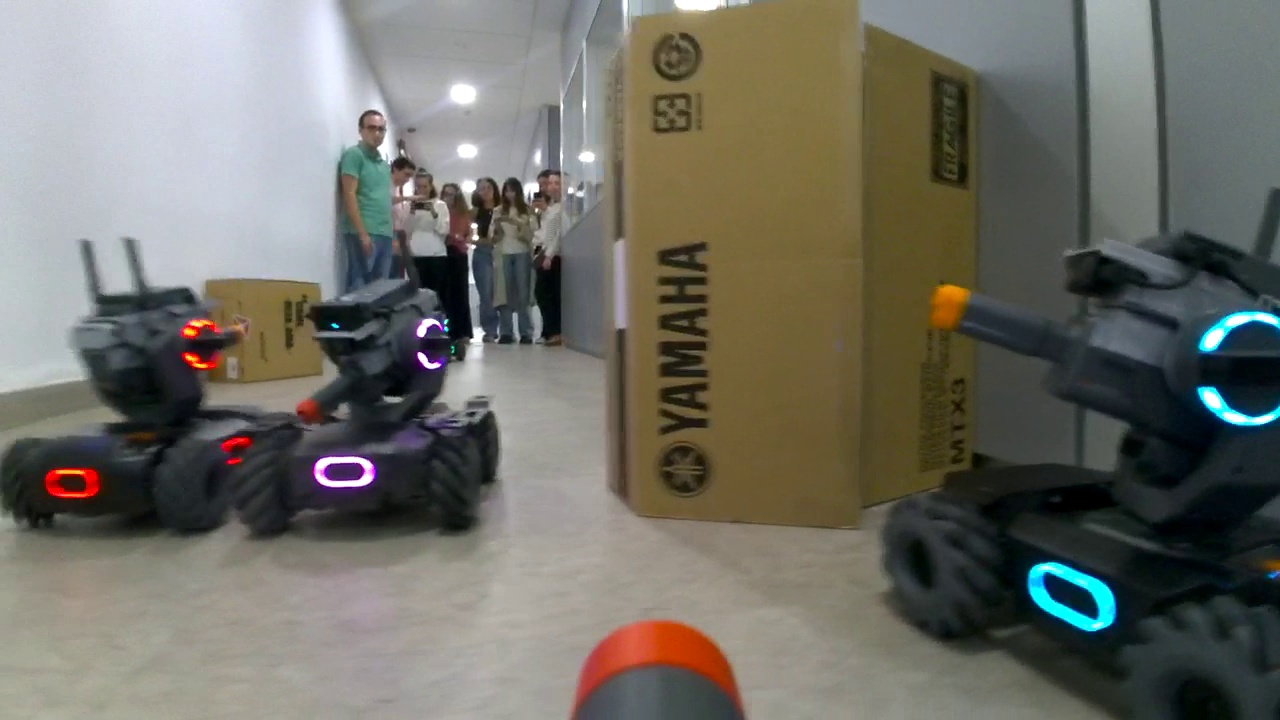robot: (890, 244, 1276, 717), (1, 276, 253, 529), (249, 284, 502, 532)
